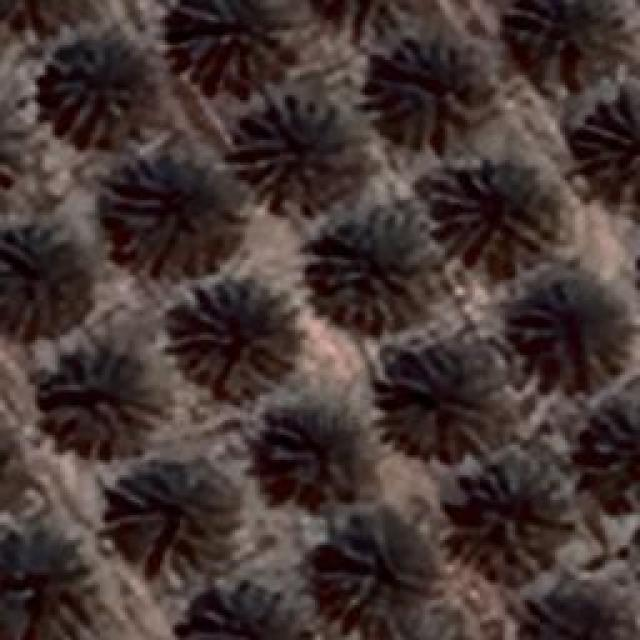PalmTree: (97, 61, 580, 610), (44, 105, 97, 588), (98, 148, 236, 272), (310, 205, 440, 330), (232, 92, 358, 210), (108, 462, 235, 576), (172, 282, 298, 396), (370, 32, 482, 150), (428, 150, 548, 255), (374, 352, 488, 460), (310, 508, 430, 610), (40, 335, 165, 430), (530, 274, 630, 388), (458, 475, 572, 575), (268, 410, 362, 508), (170, 0, 285, 80), (0, 230, 95, 325), (42, 38, 130, 138), (574, 90, 638, 202), (507, 0, 620, 62), (183, 583, 304, 640), (305, 0, 417, 36), (590, 408, 638, 488), (0, 84, 32, 202), (0, 0, 83, 30), (0, 88, 19, 200), (0, 418, 22, 506), (0, 417, 11, 503)
